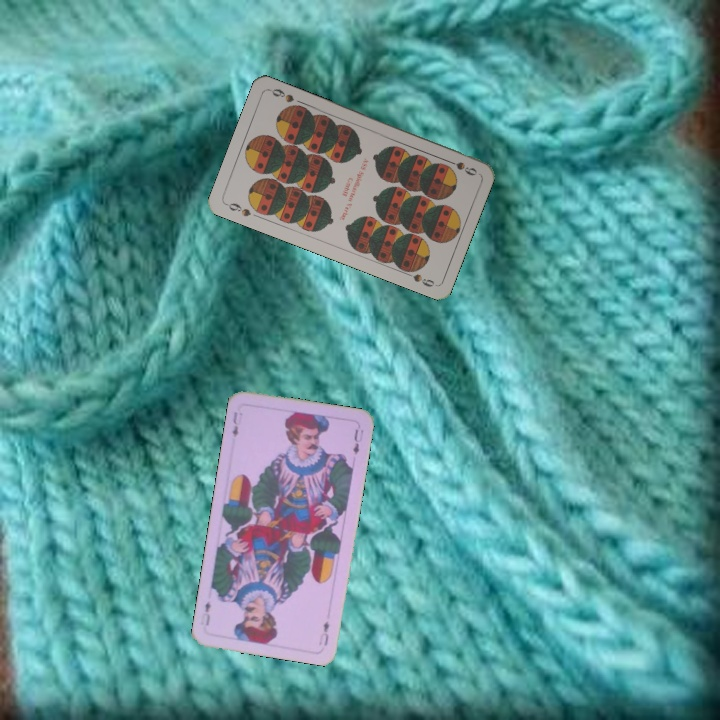EU: (228, 407, 245, 440), (315, 617, 332, 648)
S9: (441, 155, 479, 178), (222, 199, 253, 219)
